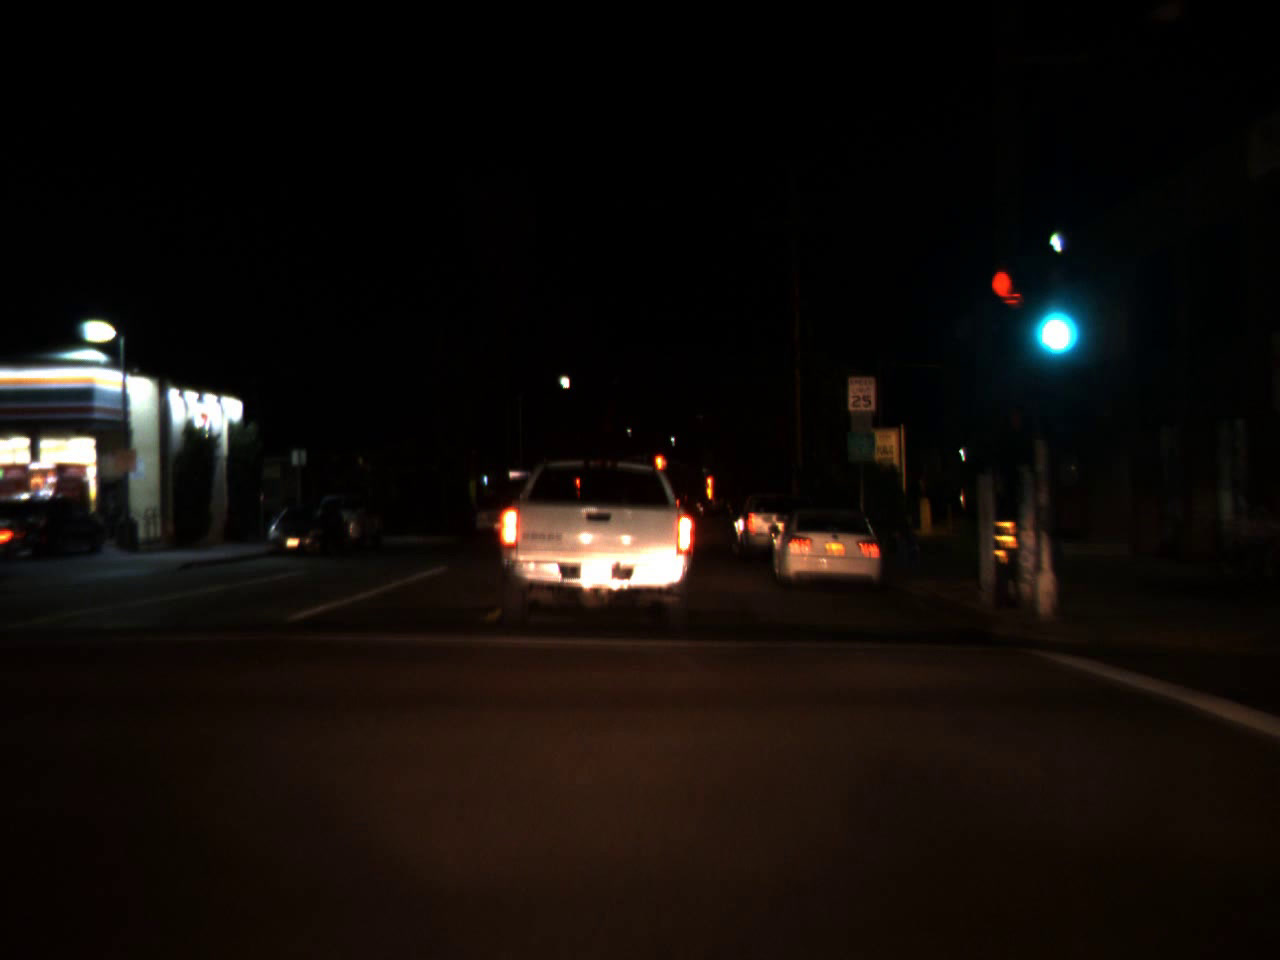go: (1028, 276, 1078, 363)
stop: (653, 455, 665, 482), (705, 474, 714, 506)
